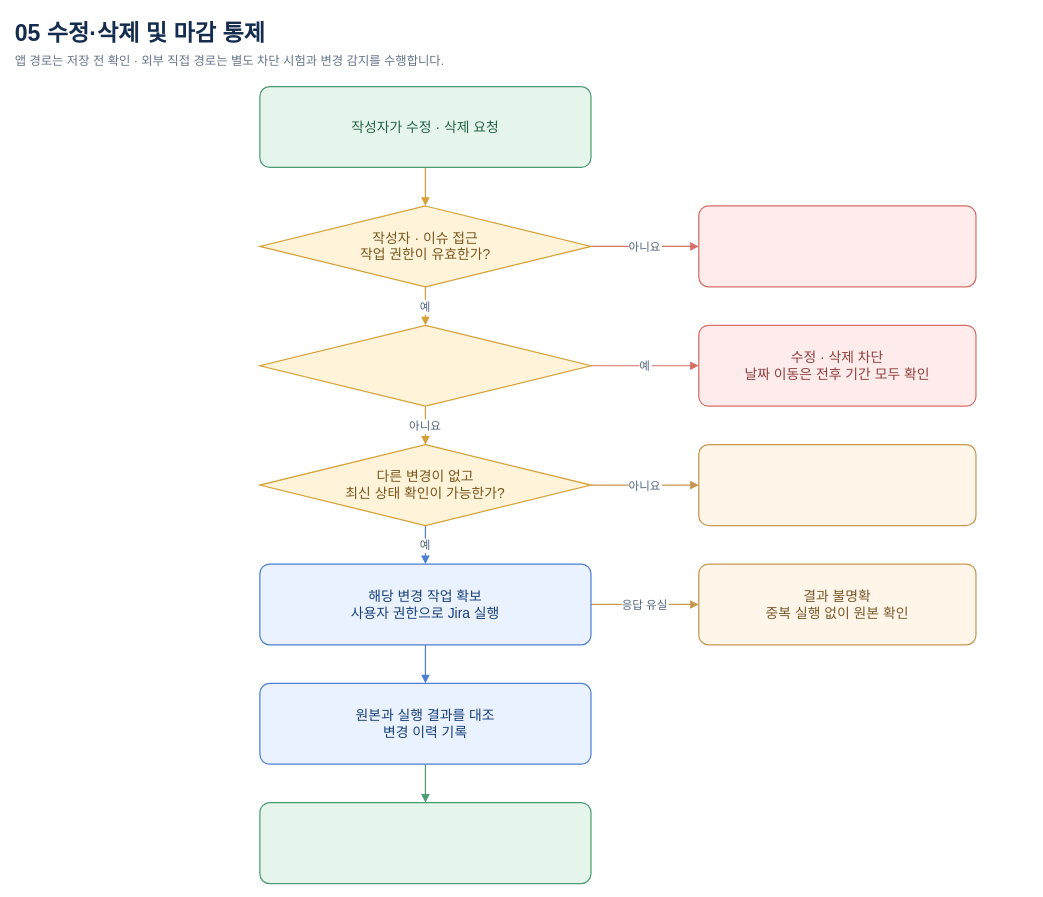
This 1043x897 diagram has some shape labels left out. Here are the shapes that lost their labels. From the top down, the centre of each, then its label:
At point 837,246: "수정 · 삭제 거부".
At point 425,365: "승인 완료 또는 마감 기간에 해당하는가?".
At point 837,485: "변경 보류 잠금 유지 · 연결 상태 안내".
At point 425,843: "처리 결과 표시 필요한 승인 흐름으로 연결".
